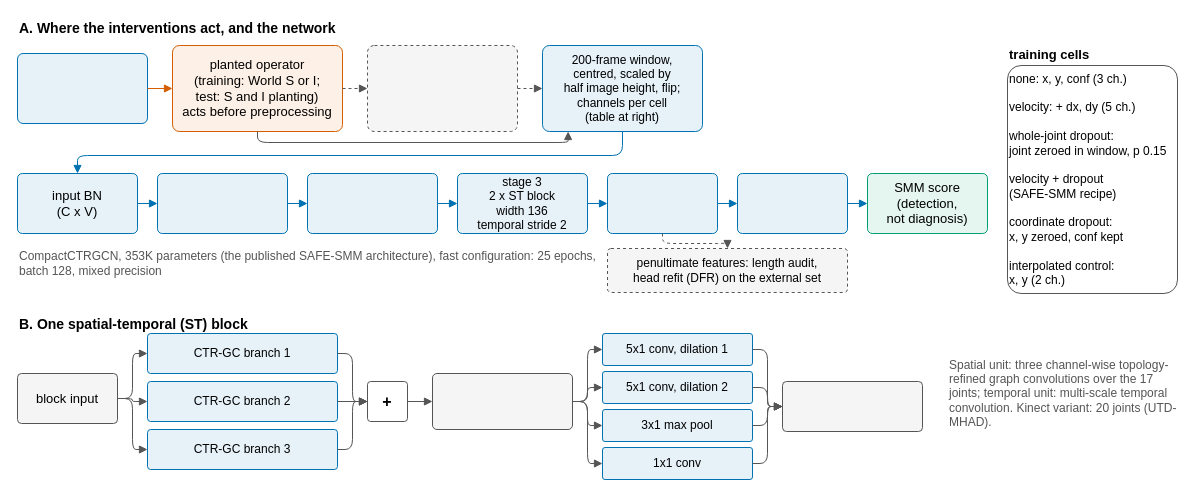
Image size: 1195x497. Some labels were removed from this diagram. The shapes that lost their labels are listed below. From the top down, each one's centre as x and y in pixels, then its label:
At point (82, 88): "raw segment T x 17 x 3 (x, y, confidence)".
At point (442, 88): "interpolated control only: interpolate missing joint-frames, drop confidence".
At point (222, 203): "stage 1 2 x ST block width 48".
At point (372, 203): "stage 2 2 x ST block width 96 temporal stride 2".
At point (662, 203): "global average pool over T, V".
At point (792, 203): "linear 136 -> 2".
At point (502, 401): "BN, residual, ReLU".
At point (852, 406): "concat, residual -> next block".
